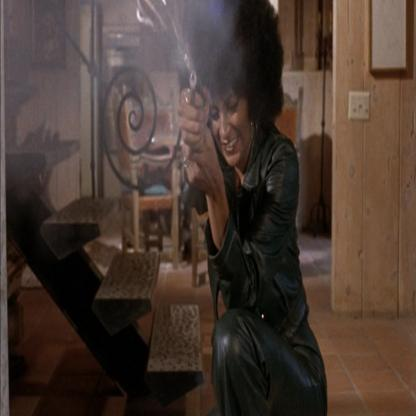gun: (172, 35, 216, 157)
